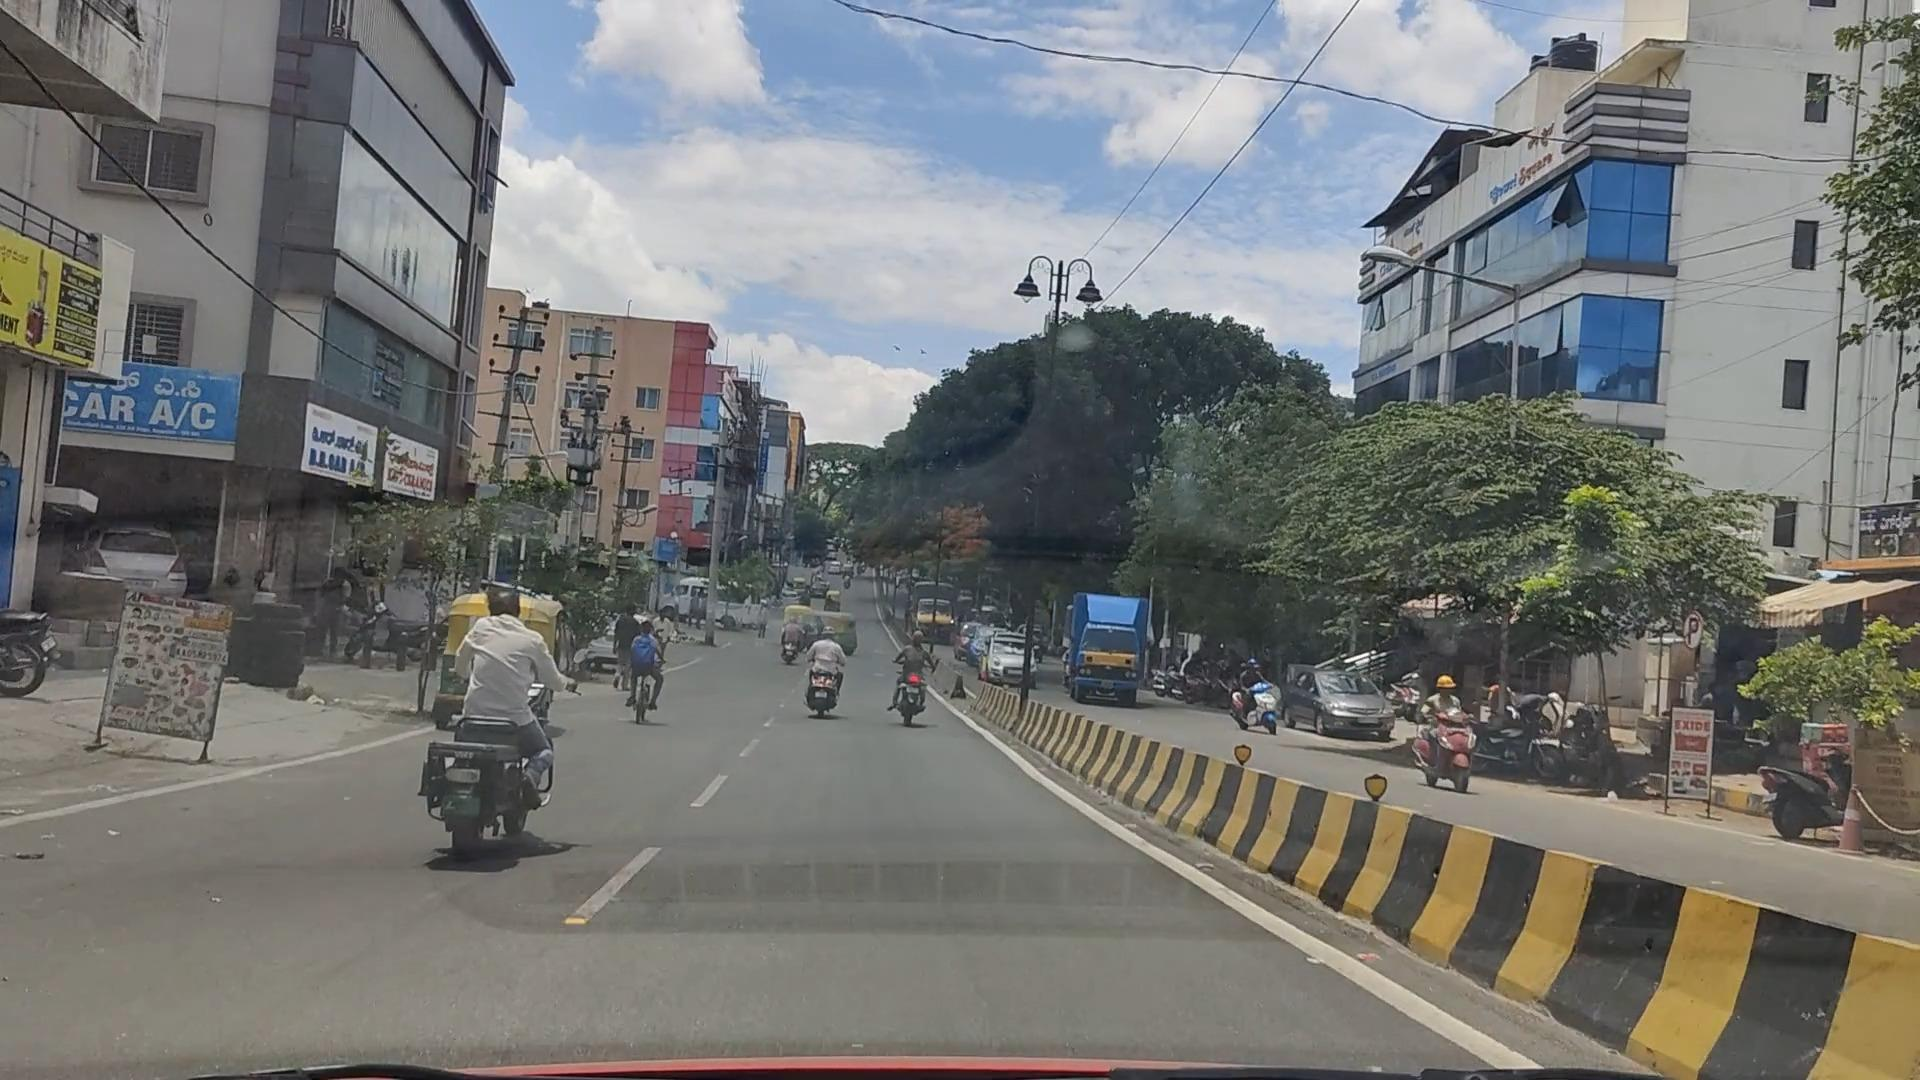LMV: (426, 550, 589, 862)
